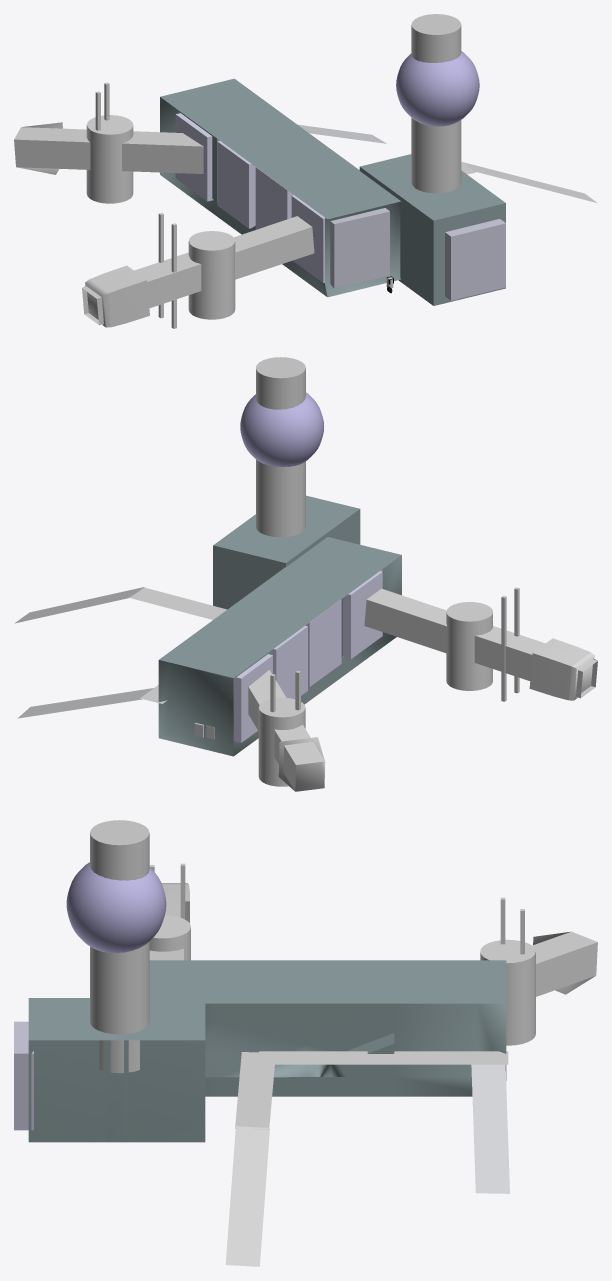
Rendered from airport-terminal-1.gltf.
3 renders of one model, top to bottom at view 1: azimuth 30°, elevation 25°; view 2: azimuth 150°, elevation 25°; view 3: azimuth 270°, elevation 25°, orthographic. The views are drawn at different scales.
Parts seen in each view (by area): view 1: Box, Box3, Box12, Box2, Cylinder2, Sphere, Box16, Box15, Cylinder1, Cylinder, Box8, Box1 (+6 smaller); view 2: Box, Box3, Cylinder2, Box1, Sphere, Box2, Cylinder1, Cylinder, Box9, Box11, Box12, Box8 (+5 smaller); view 3: Box, Box1, Box12, Cylinder2, Sphere, Plane2, Plane3, Cylinder, Box2, Plane, Plane1, Box16 (+2 smaller).
Part boxes in pixels (box(x1,y1,x2,y2)): Box: box(160, 78, 400, 297); Box3: box(82, 216, 314, 327); Box12: box(396, 179, 505, 305); Box2: box(14, 122, 203, 174); Cylinder2: box(411, 14, 461, 193); Sphere: box(396, 51, 479, 126); Box16: box(445, 219, 505, 300); Box15: box(330, 208, 389, 288); Cylinder1: box(188, 231, 235, 319); Cylinder: box(86, 115, 133, 203); Box8: box(217, 141, 255, 228); Box1: box(359, 154, 473, 281); Box: box(158, 537, 401, 756); Box3: box(364, 588, 597, 700); Cylinder2: box(256, 357, 305, 537); Box1: box(213, 514, 327, 609); Sphere: box(240, 392, 324, 466); Box2: box(248, 670, 325, 791); Cylinder1: box(446, 602, 492, 690); Cylinder: box(258, 697, 305, 786); Box9: box(306, 599, 341, 686); Box11: box(342, 571, 382, 659); Box12: box(255, 495, 360, 544); Box8: box(272, 625, 307, 699); Box: box(149, 960, 506, 1096); Box1: box(105, 998, 205, 1142); Box12: box(28, 998, 128, 1142); Cylinder2: box(90, 820, 149, 1073); Sphere: box(66, 862, 166, 952); Plane2: box(225, 1126, 269, 1266); Plane3: box(471, 1064, 509, 1193); Cylinder: box(480, 939, 535, 1045); Box2: box(532, 931, 597, 996); Plane: box(259, 1051, 508, 1064); Plane1: box(235, 1052, 275, 1129); Box16: box(14, 1021, 33, 1130).
Size of the model in its own units: 7.39 by 3.46 by 5.85.
